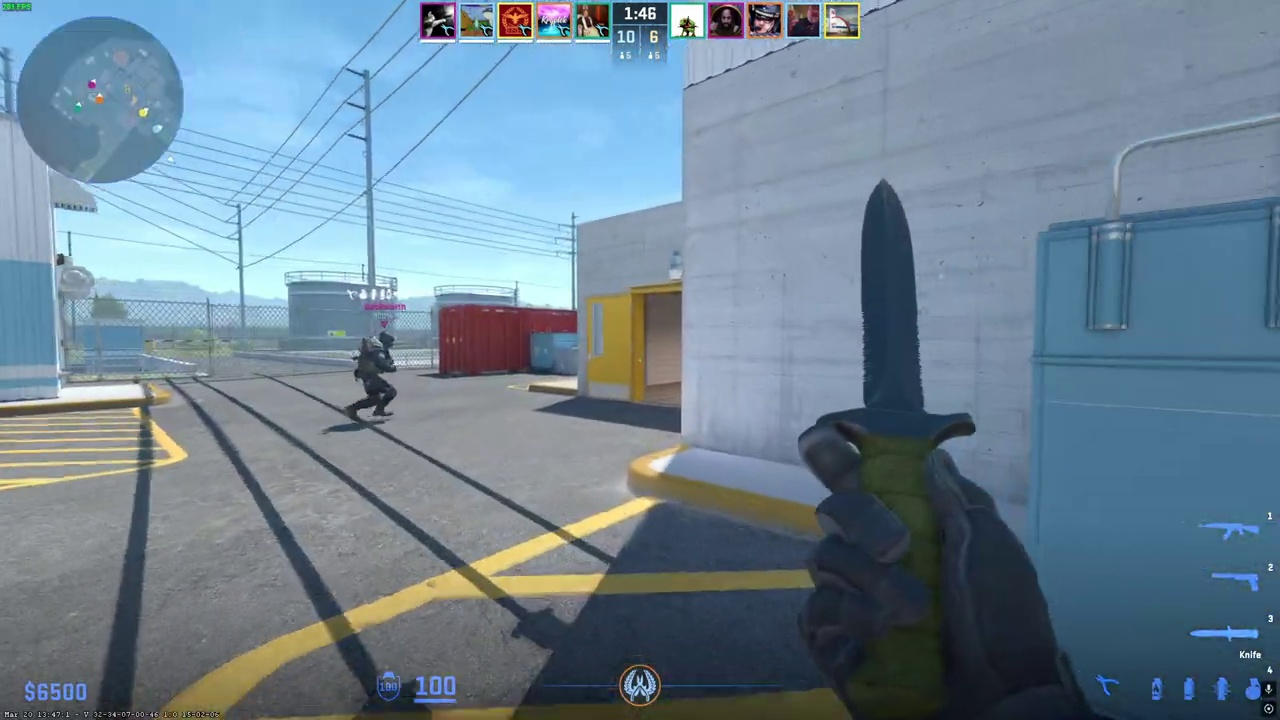CT: (347, 330, 399, 421)
